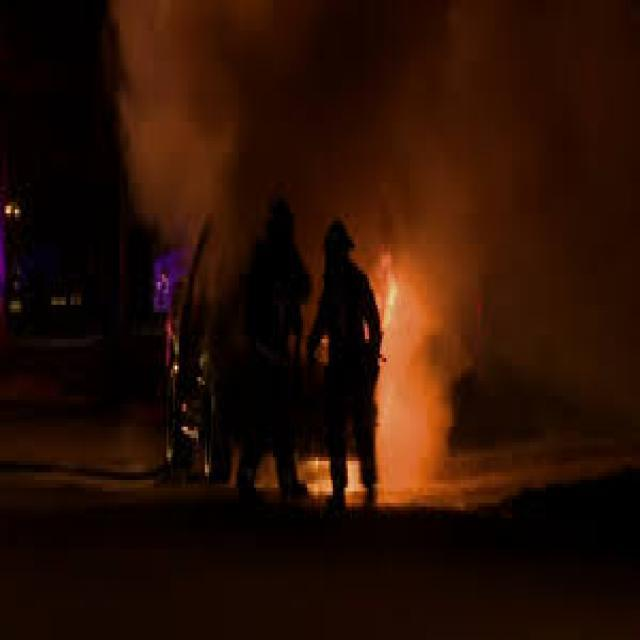Fire: (369, 250, 412, 340)
Smoke: (89, 6, 411, 244), (418, 4, 640, 342), (367, 347, 640, 505)
